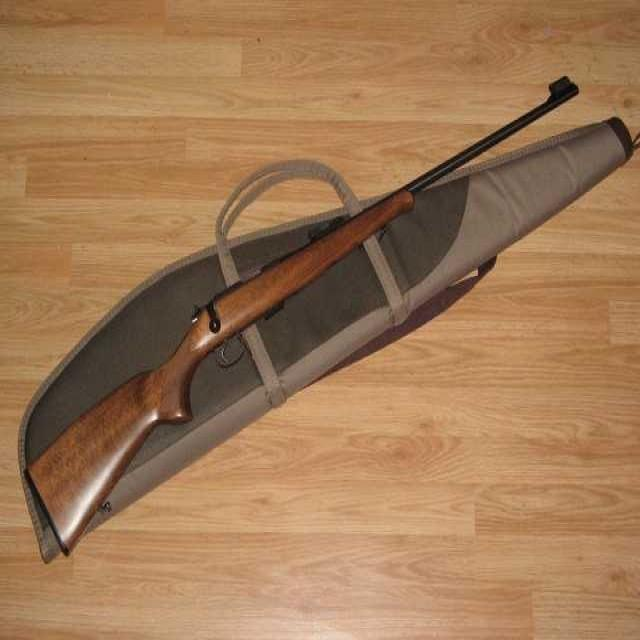weapon: (27, 36, 593, 562)
